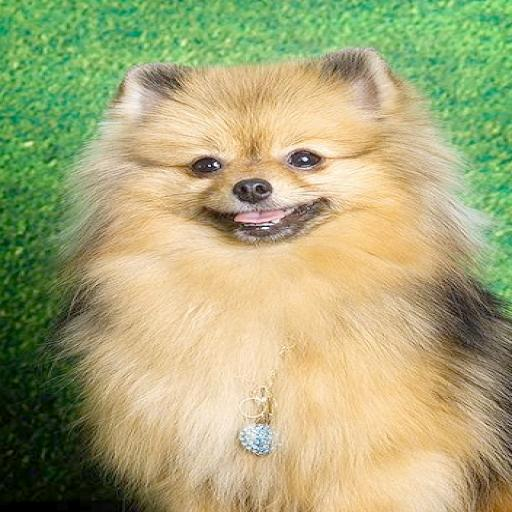dog_face: (116, 55, 415, 246)
